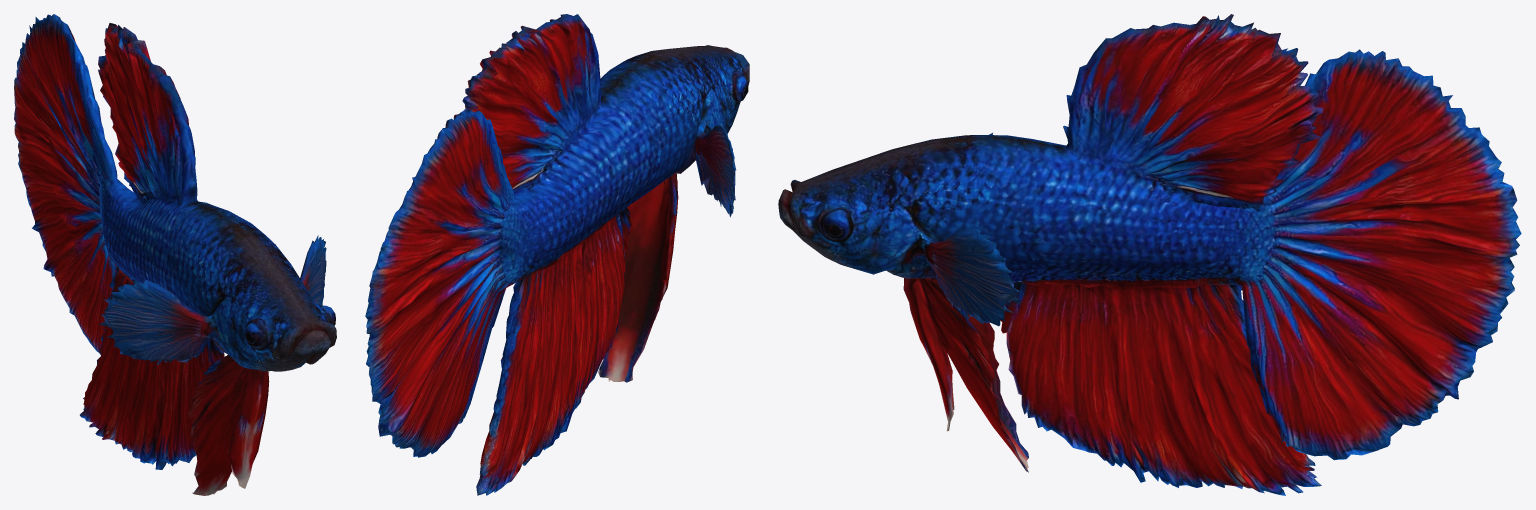
File: betta.glb
3 renders of one model, left to right at view 1: azimuth 30°, elevation 25°; view 2: azimuth 150°, elevation 25°; view 3: azimuth 270°, elevation 25°, orthographic. The views are drawn at different scales.
Visible parts, largest first — view 1: tripo_node_3dc2ddc7-e5ff-4ad1-8ad6-ff50f91ab238; view 2: tripo_node_3dc2ddc7-e5ff-4ad1-8ad6-ff50f91ab238; view 3: tripo_node_3dc2ddc7-e5ff-4ad1-8ad6-ff50f91ab238.
Part boxes in pixels (bbox=[...]): tripo_node_3dc2ddc7-e5ff-4ad1-8ad6-ff50f91ab238: bbox=[14, 14, 336, 495]; tripo_node_3dc2ddc7-e5ff-4ad1-8ad6-ff50f91ab238: bbox=[365, 14, 749, 495]; tripo_node_3dc2ddc7-e5ff-4ad1-8ad6-ff50f91ab238: bbox=[778, 14, 1521, 495].
Bounding box in the file's own units: 0.4001 × 0.7176 × 0.9992.
Materials: 1 (1 with a texture image).
